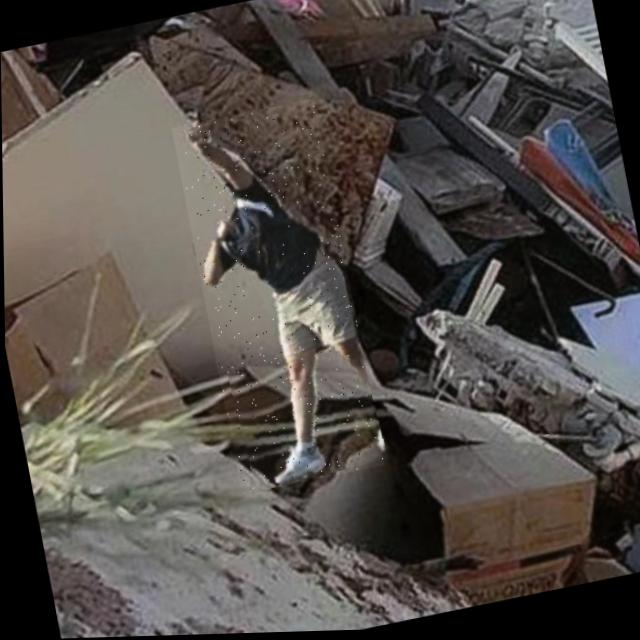Person in Rubble: (170, 99, 383, 497)
